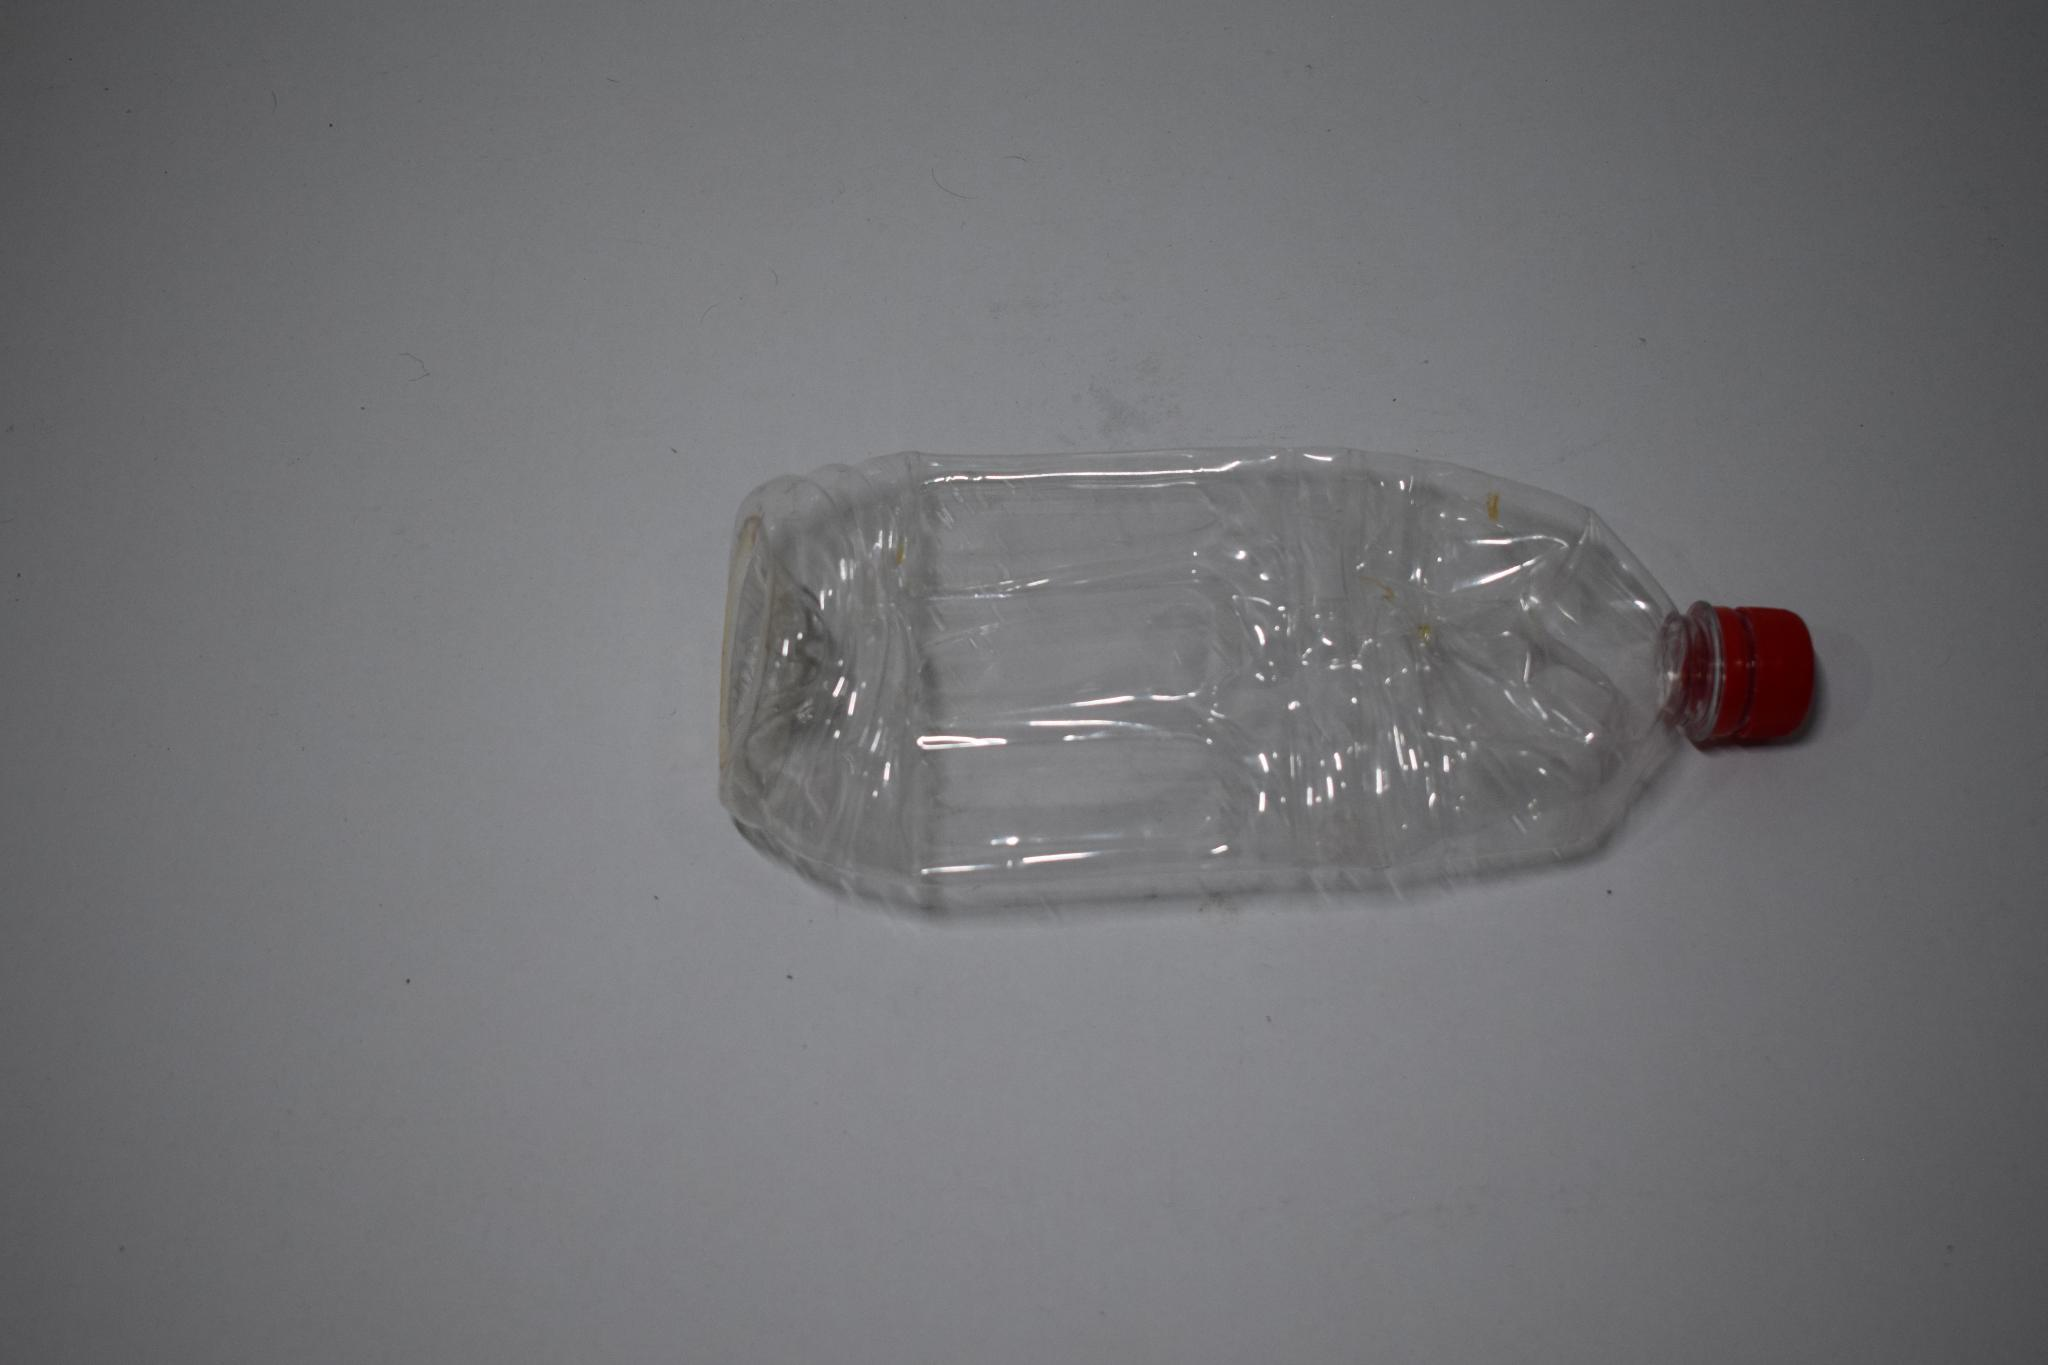bottle: (694, 448, 1842, 914)
